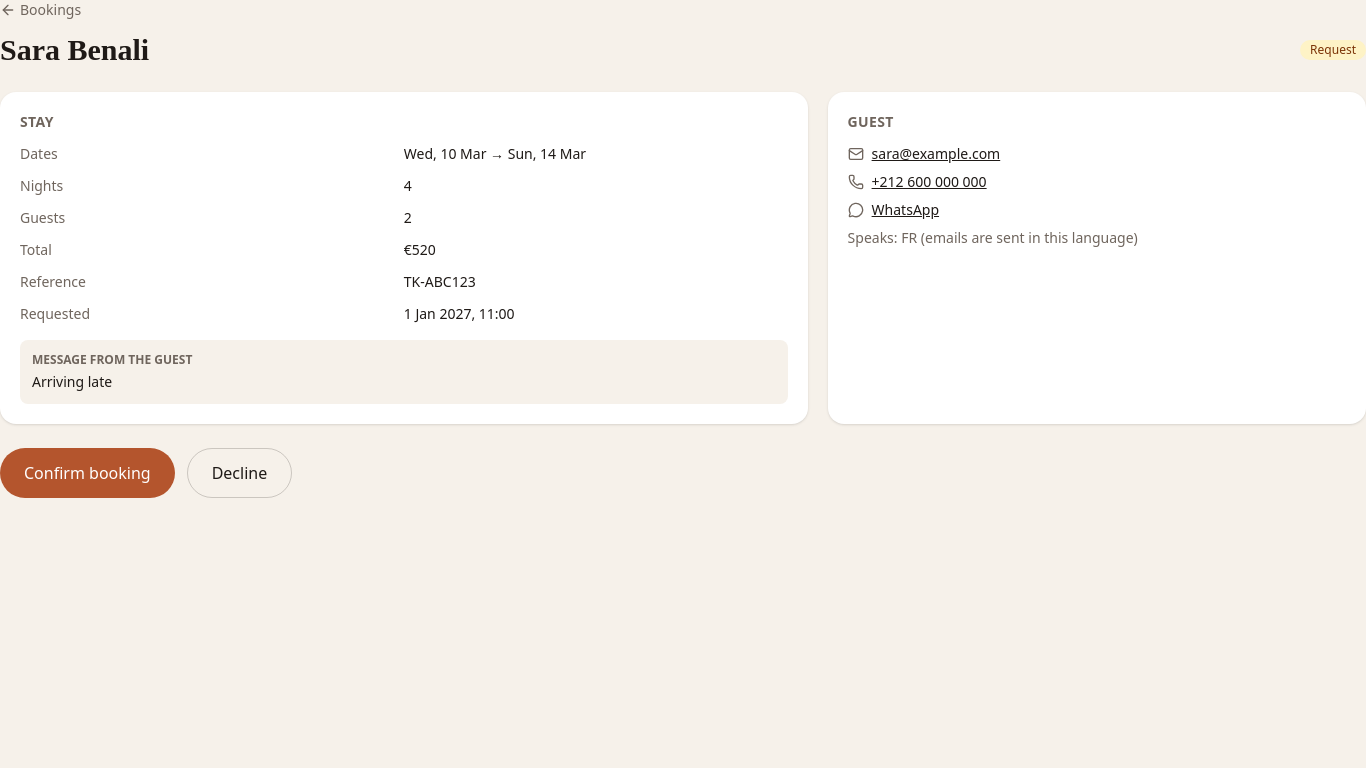
BookingDetailView › declines with the owner's message
The image size is (1366, 768).
Click the button "Decline" at (239, 473), box [187,448,292,498]
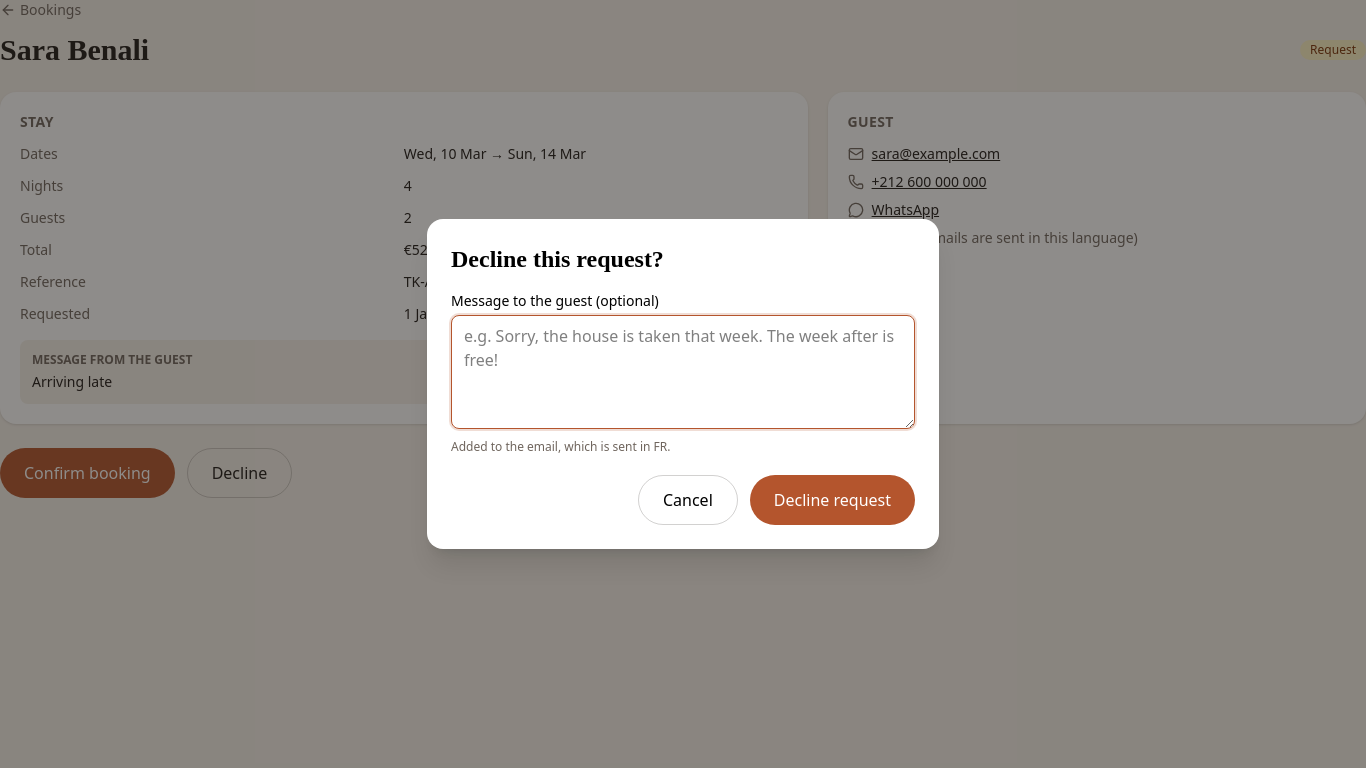
Type "Sorry, full that week." into the text box labelled "Message to the guest (optional)" at (683, 372), box [451,315,915,429]
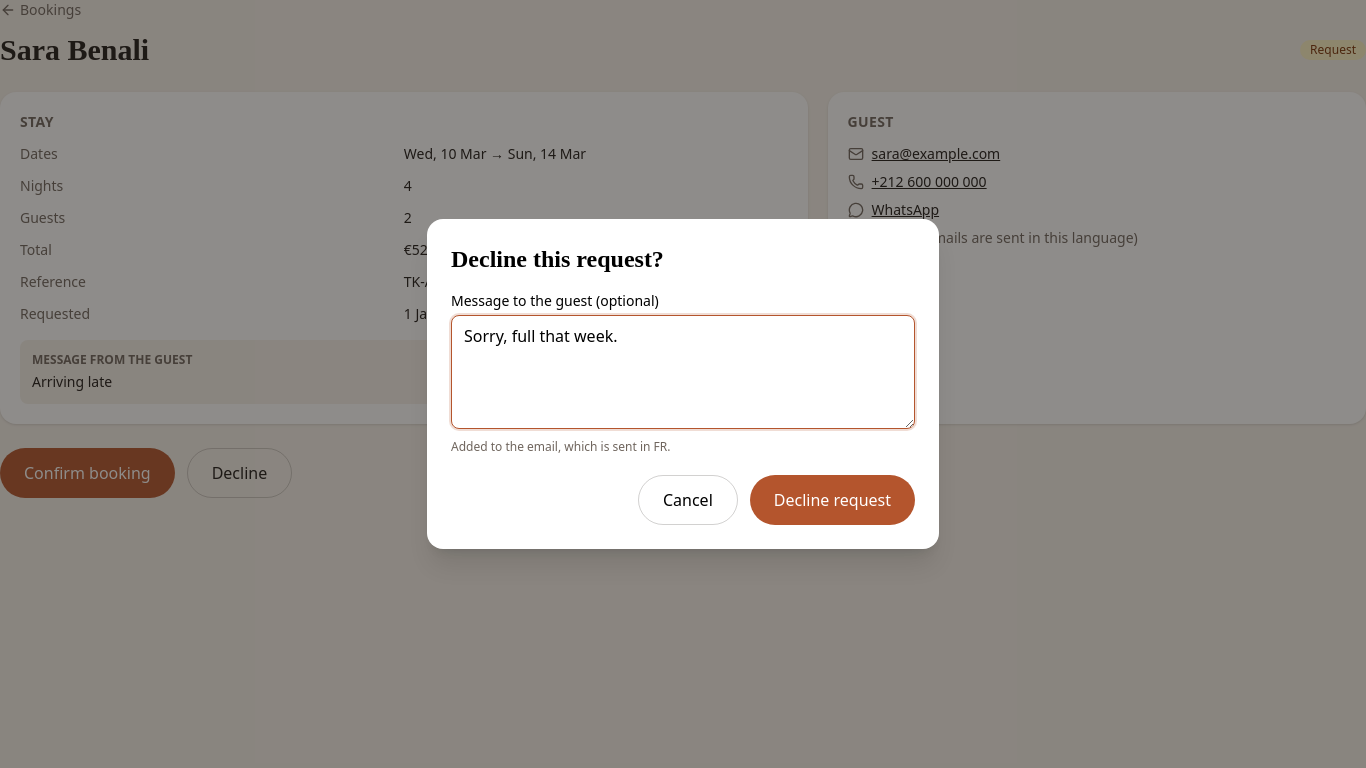
Click the button "Decline request" at (832, 500), box [750,475,915,525]
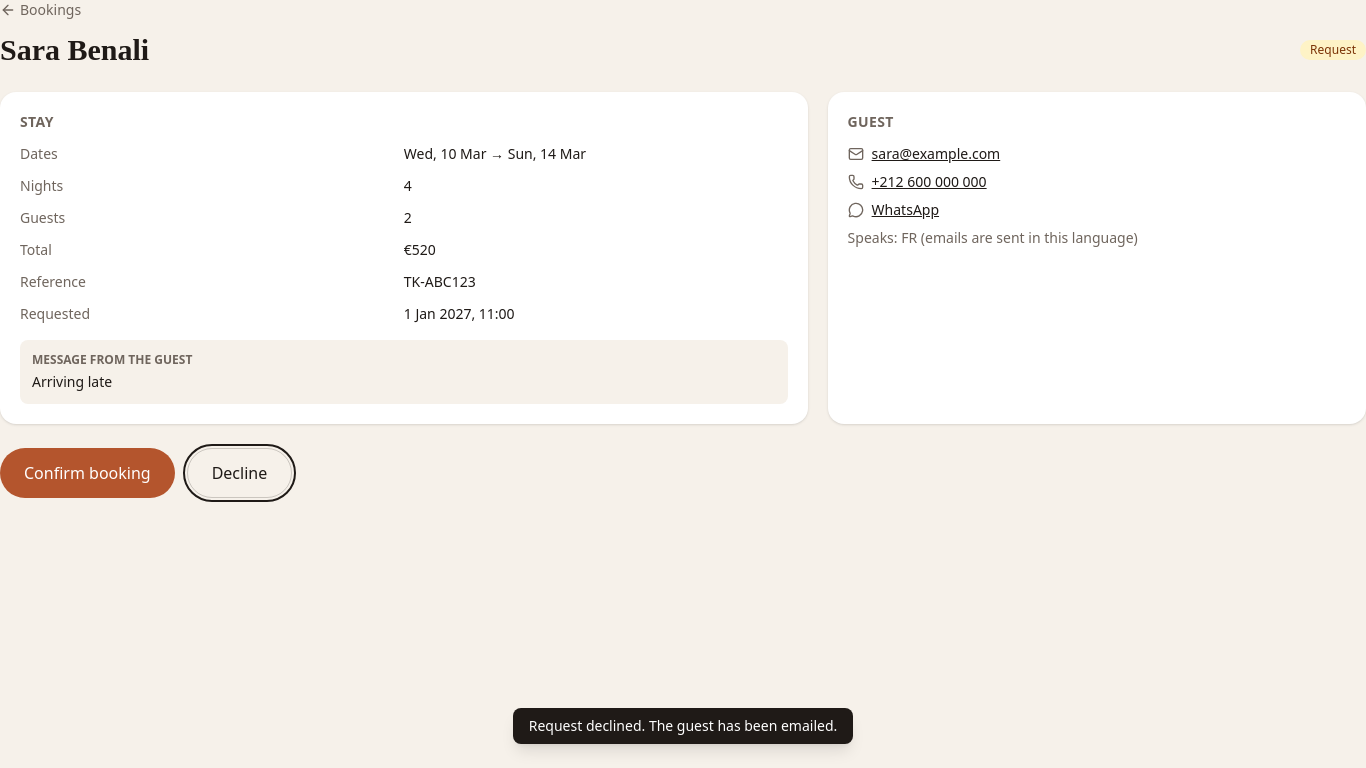
Expected: the text "Request declined. The guest has been emailed." is shown, [513,708,853,744]
